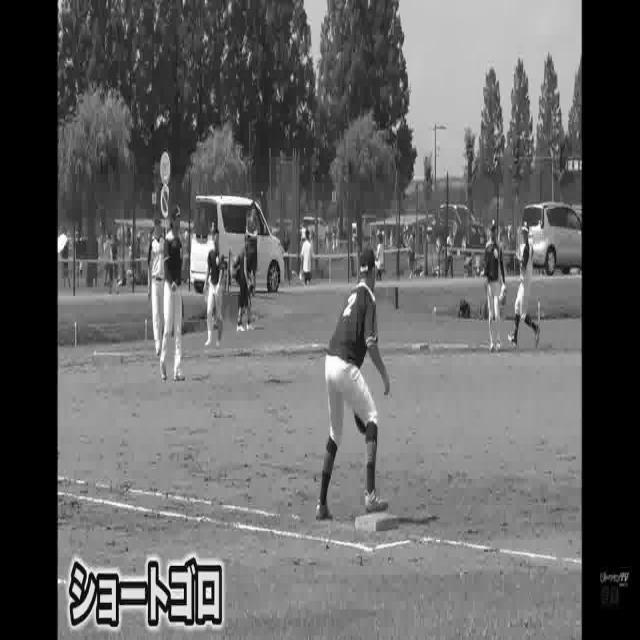base: (352, 512, 400, 536)
shoe: (363, 489, 388, 514), (314, 499, 337, 524), (158, 352, 168, 384), (172, 370, 186, 382)
